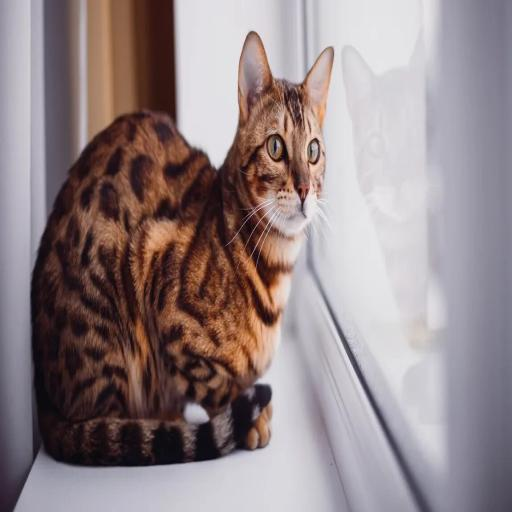cats: (31, 32, 333, 464)
